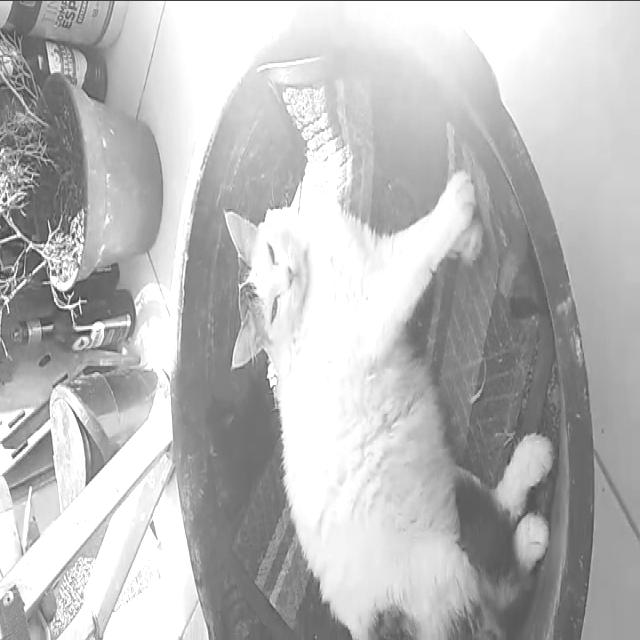Simba: (204, 148, 547, 628)
